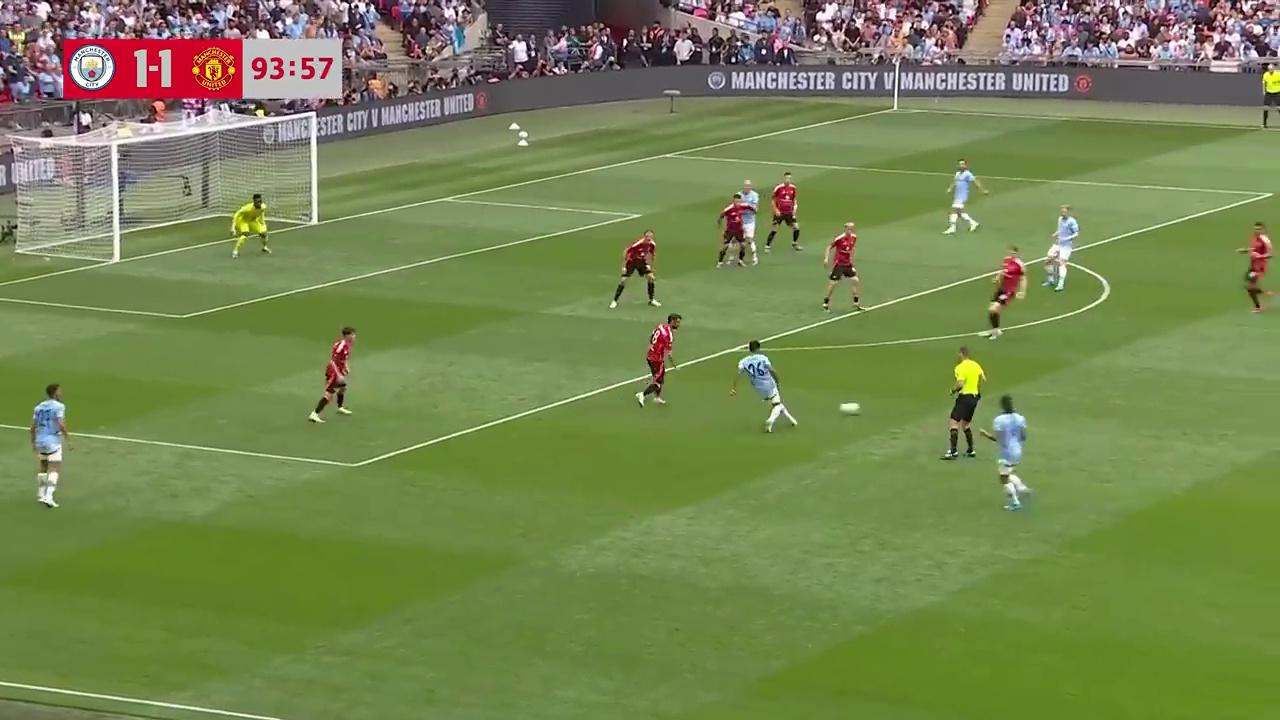ball: (837, 397, 862, 415)
player: (730, 340, 801, 432), (987, 394, 1032, 511), (30, 382, 71, 508), (308, 326, 354, 423), (636, 315, 679, 407), (609, 229, 658, 308), (987, 244, 1029, 334), (822, 221, 862, 313), (1235, 222, 1274, 312), (941, 159, 985, 234), (764, 171, 799, 253), (230, 194, 273, 258), (1047, 205, 1079, 283), (716, 194, 749, 267), (740, 174, 761, 237)
referee: (942, 345, 988, 459), (1259, 66, 1280, 130)
